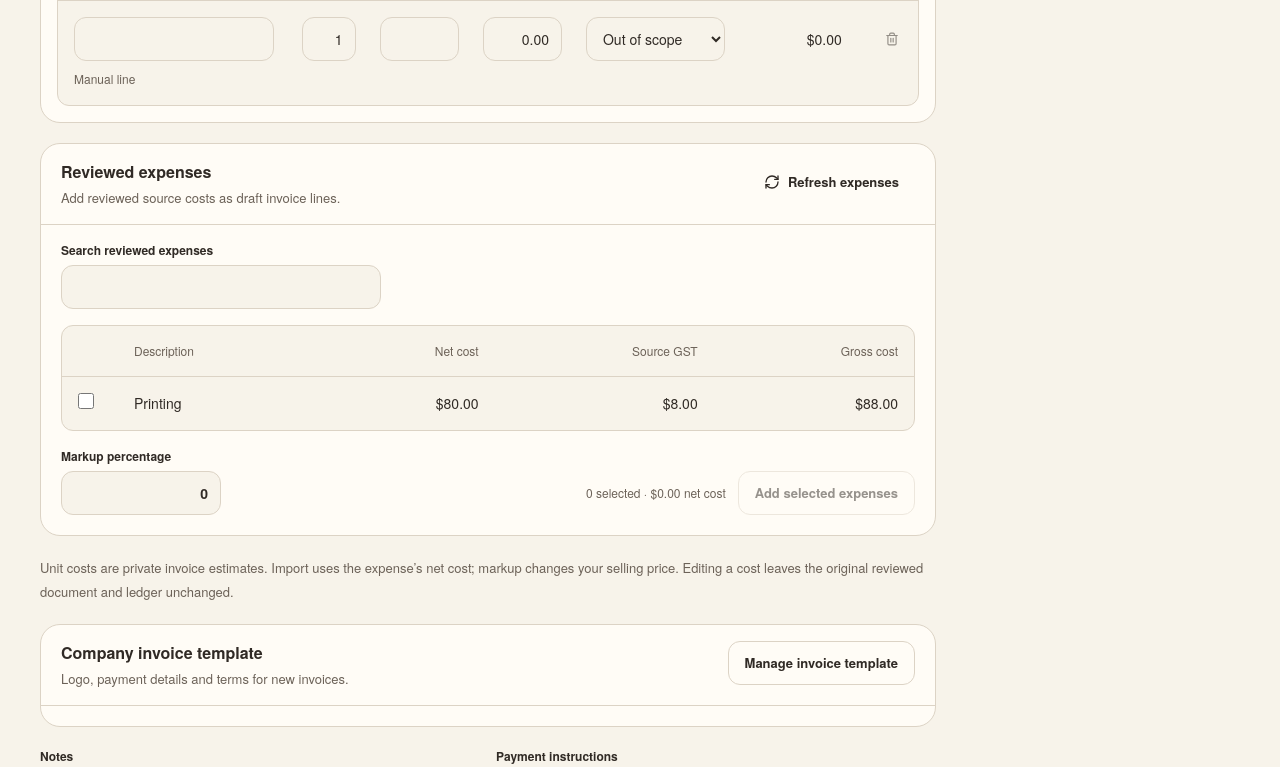
Test case: uses an expense as the first line instead of leaving an empty placeholder
(page scrolled)
Click the checkbox named "Select Printing" at coordinates (86, 401), box [78,393,94,409]
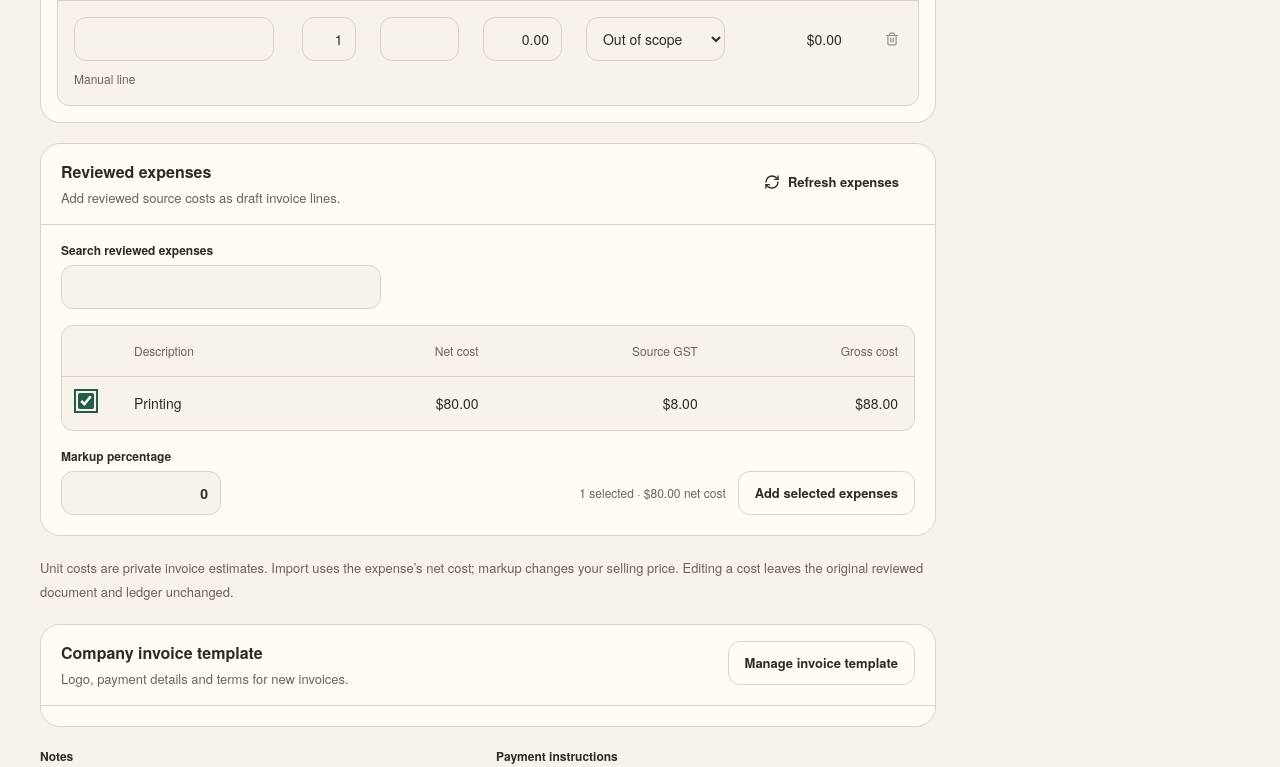
Click the button "Add selected expenses" at coordinates (826, 493), box [738,471,915,515]
(page scrolled)
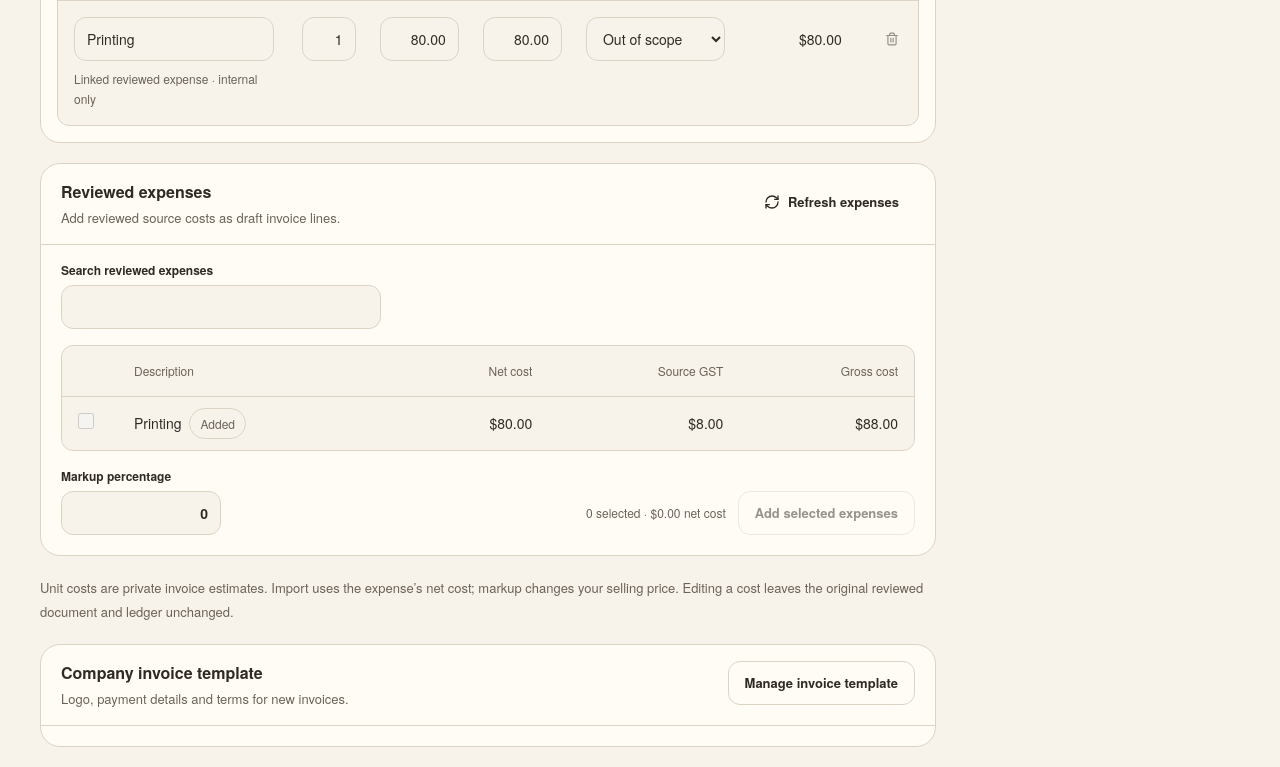
Check: the number of fields named "Description" is 1, box [74,17,274,61]
Check: the field named "Description 1" holds "Printing", box [74,17,274,61]
